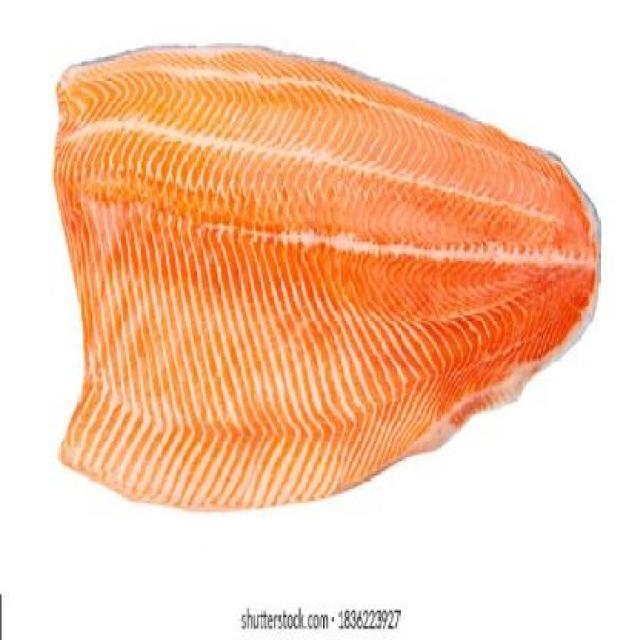salmon: (51, 29, 614, 542)
